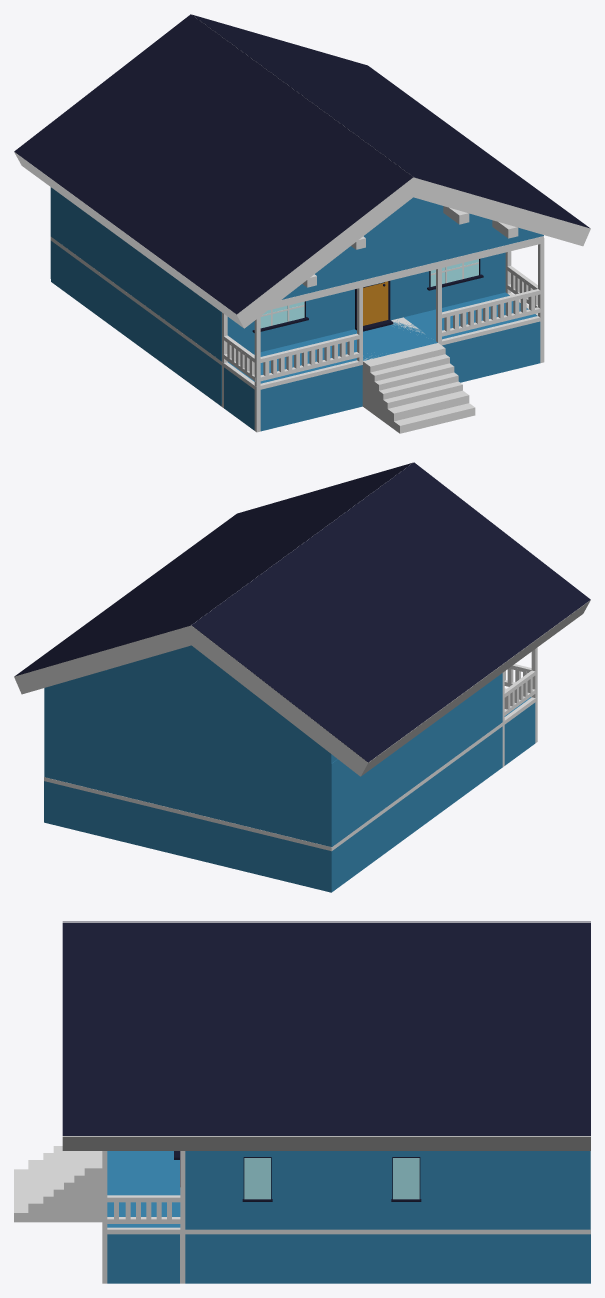
Rendered from sadece ev.fbx.
The picture shows the model from 3 angles, top to bottom: view 1: azimuth 30°, elevation 25°; view 2: azimuth 150°, elevation 25°; view 3: azimuth 270°, elevation 25°; orthographic projection. The views are drawn at different scales.
Visible parts, largest first — view 1: Cube_4_3, Cube_1_5, Cube_1_4, Cube_5_5, Cube, Cube_1, Cube_2_4, Cube_5_4, Cube_3_4, Cube_6_7, Cube_4_4, Cube_5_6 (+17 smaller); view 2: Cube_4_3, Cube_1_5, Cube_1_4, Cube_5_5, Cube, Cube_5_4, Cube_2_4, Cube_1, Cube_3_4, Cube_4_4, Cube_5_3, Cube_6_2; view 3: Cube_1_4, Cube_1_5, Cube_5_5, Cube_1, Cube_15_4, Cube_6_7, Cube_12_2, Cube_12_3, Cube_3_13, Cube_2_15, Cube_5_6, Cube_4_8 (+9 smaller).
Boxes of the visible parts, <box> form: Cube_4_3: <box>14,14,413,314</box>; Cube_1_5: <box>50,187,505,403</box>; Cube_1_4: <box>192,14,589,228</box>; Cube_5_5: <box>51,279,540,431</box>; Cube: <box>14,14,420,328</box>; Cube_1: <box>414,177,590,246</box>; Cube_2_4: <box>298,222,528,287</box>; Cube_5_4: <box>282,231,543,299</box>; Cube_3_4: <box>327,214,492,265</box>; Cube_6_7: <box>362,399,475,433</box>; Cube_4_4: <box>363,205,472,240</box>; Cube_5_6: <box>362,317,445,377</box>; Cube_4_3: <box>191,462,590,762</box>; Cube_1_5: <box>44,673,502,889</box>; Cube_1_4: <box>14,462,412,676</box>; Cube_5_5: <box>44,697,535,892</box>; Cube: <box>191,464,590,776</box>; Cube_5_4: <box>44,687,337,773</box>; Cube_2_4: <box>45,678,333,757</box>; Cube_1: <box>14,625,198,694</box>; Cube_3_4: <box>74,670,305,736</box>; Cube_4_4: <box>106,662,281,715</box>; Cube_5_3: <box>134,653,252,692</box>; Cube_6_2: <box>158,647,228,674</box>; Cube_1_4: <box>62,922,590,1135</box>; Cube_1_5: <box>185,1151,590,1229</box>; Cube_5_5: <box>107,1151,590,1283</box>; Cube_1: <box>62,922,590,1150</box>; Cube_15_4: <box>28,1160,102,1217</box>; Cube_6_7: <box>14,1169,102,1222</box>; Cube_12_2: <box>393,1158,419,1199</box>; Cube_12_3: <box>244,1158,270,1199</box>; Cube_3_13: <box>64,1151,102,1201</box>; Cube_2_15: <box>53,1146,102,1203</box>; Cube_5_6: <box>84,1151,102,1187</box>; Cube_4_8: <box>74,1151,102,1194</box>.
Size of the model in its own units: 941 by 592 by 1118.
